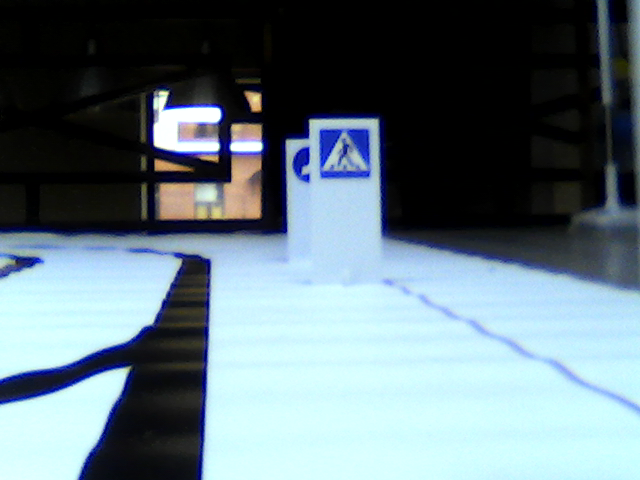pesh: (322, 129, 371, 178)
